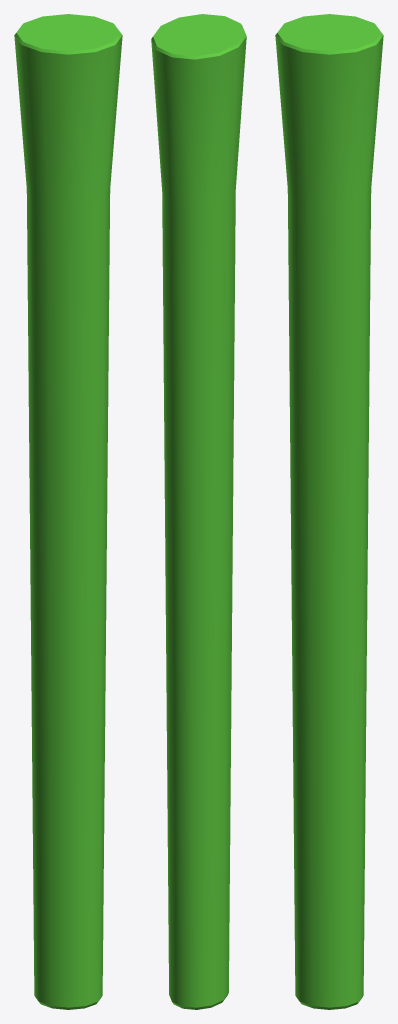
File: PixeAxe_Handle.fbx
The picture shows the model from 3 angles, left to right: view 1: azimuth 90°, elevation 25°; view 2: azimuth 150°, elevation 25°; view 3: azimuth 270°, elevation 25°; orthographic projection.
Visible parts, largest first — view 1: PixeAxe_Handle; view 2: PixeAxe_Handle; view 3: PixeAxe_Handle.
Part boxes in pixels (left/top/right/bottom): PixeAxe_Handle: left=14, top=14, right=122, bottom=1009; PixeAxe_Handle: left=151, top=14, right=246, bottom=1009; PixeAxe_Handle: left=275, top=14, right=383, bottom=1009.
Size of the model in its own units: 8.58 by 99.54 by 10.11.
